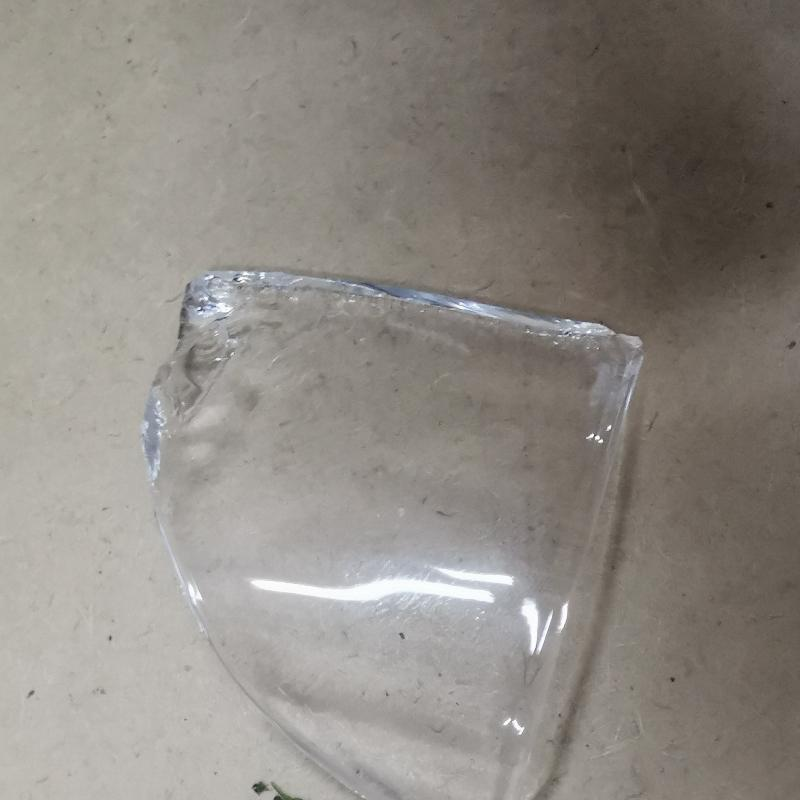glass: (140, 263, 649, 800)
